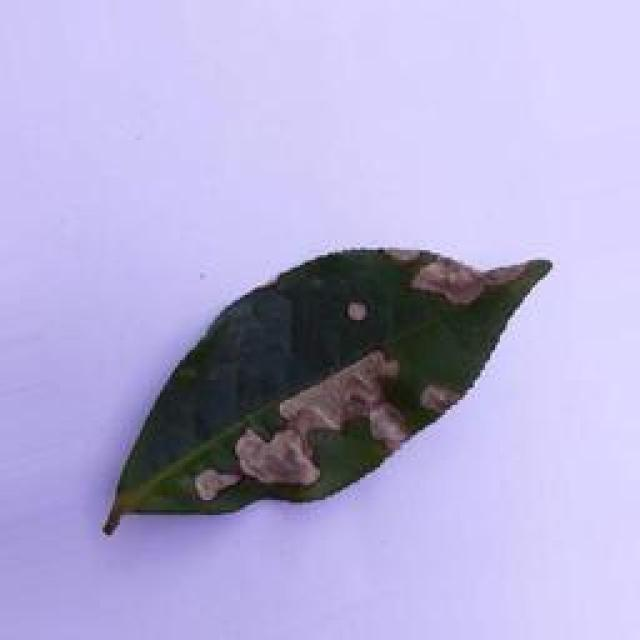Gray Blight: (101, 248, 557, 542)
